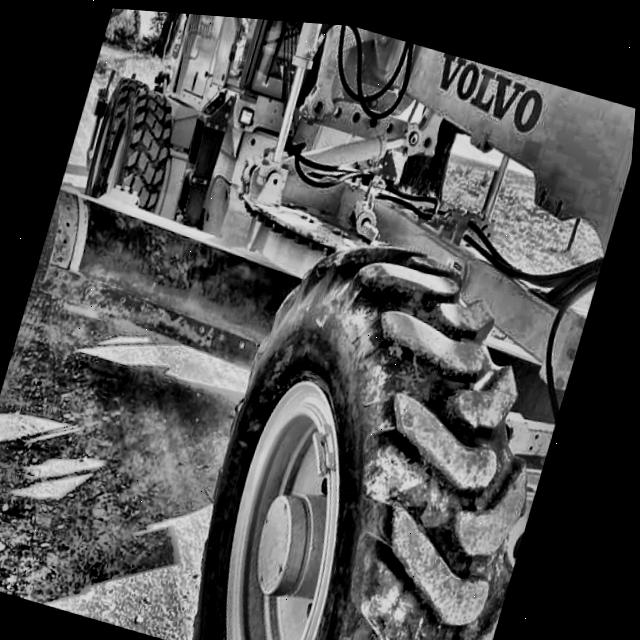buldozerpayloadergrader: (0, 2, 640, 640)
